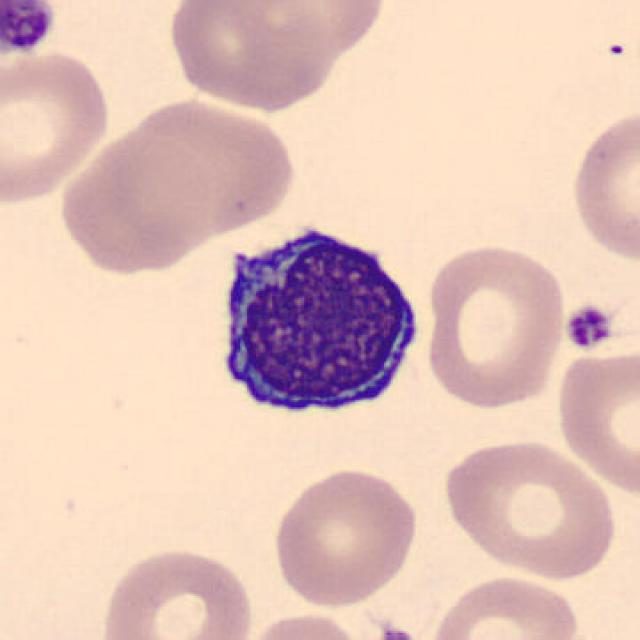Lymphocyte: (204, 210, 432, 434)
Platelets: (0, 0, 59, 58), (562, 302, 615, 354), (372, 622, 423, 640)
RBC: (114, 94, 298, 244), (434, 434, 620, 582), (55, 118, 219, 277), (419, 240, 569, 412), (268, 464, 422, 610), (163, 0, 340, 115), (0, 46, 114, 208), (96, 543, 258, 640), (551, 344, 640, 497), (565, 104, 640, 266), (425, 571, 583, 640), (224, 0, 389, 58), (236, 608, 377, 640)
